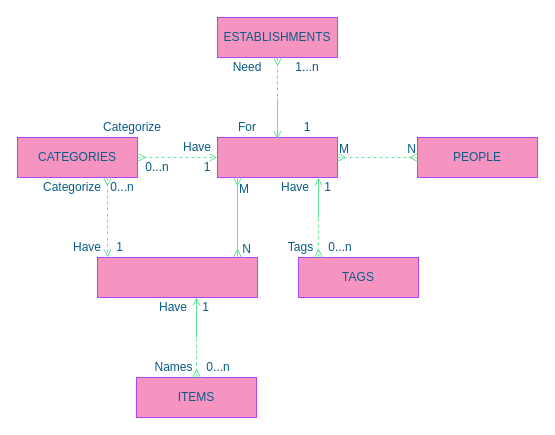
The diagram is 555 pixels wide and 435 high, and some of its shapes have lost their labels. Here are the shapes that lost their labels. From the top down, the centre of each, then its label:
(277,157): PAYMENTS
(177,277): PAYMENT_ITEMS
